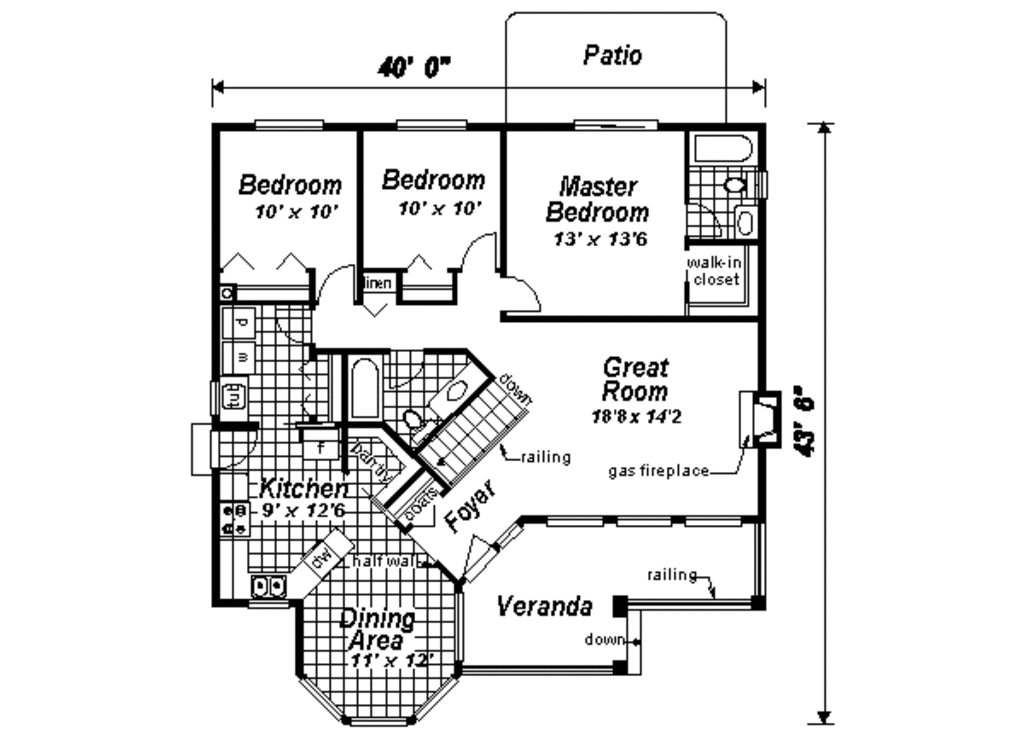door: (462, 525, 508, 582), (500, 270, 545, 321), (312, 263, 359, 308), (458, 229, 503, 273)
large_sink: (398, 401, 438, 443), (718, 166, 754, 198)
small_sink: (429, 379, 482, 404), (729, 203, 761, 235)
stairs: (421, 375, 531, 497)
tub: (343, 351, 384, 419), (689, 128, 764, 163)
twin_sink: (247, 569, 293, 601)
window: (403, 671, 467, 727), (298, 672, 342, 722), (570, 116, 659, 135), (606, 509, 673, 532), (686, 513, 748, 535), (340, 713, 409, 732), (390, 116, 468, 132), (253, 115, 325, 131), (542, 515, 605, 530)
